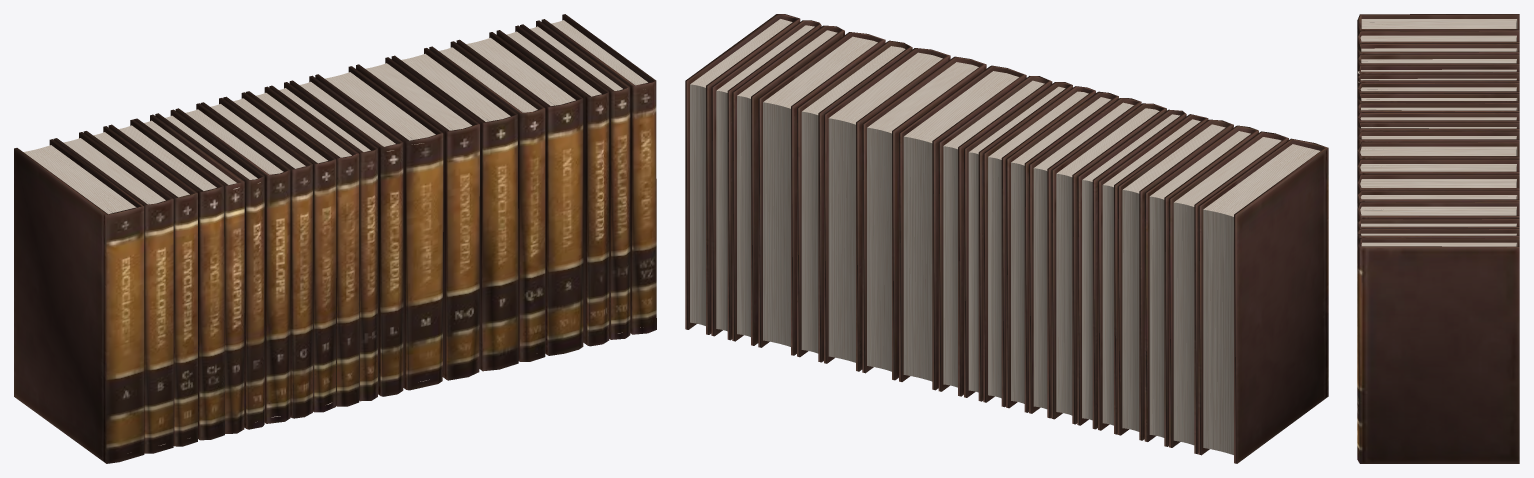
File: book_encyclopedia_set_01.glb
3 renders of one model, left to right at view 1: azimuth 30°, elevation 25°; view 2: azimuth 150°, elevation 25°; view 3: azimuth 270°, elevation 25°, orthographic. The views are drawn at different scales.
Parts seen in each view (by area): view 1: book_encyclopedia_set_01_book01; view 2: book_encyclopedia_set_01_book01; view 3: book_encyclopedia_set_01_book01.
Part boxes in pixels (x1,y1,x2,y2): book_encyclopedia_set_01_book01: (14,14,656,463); book_encyclopedia_set_01_book01: (685,14,1328,463); book_encyclopedia_set_01_book01: (1357,14,1519,463).
Bounding box in the file's own units: 0.5513 × 0.2374 × 0.1619.
2 materials, 2 textured.
